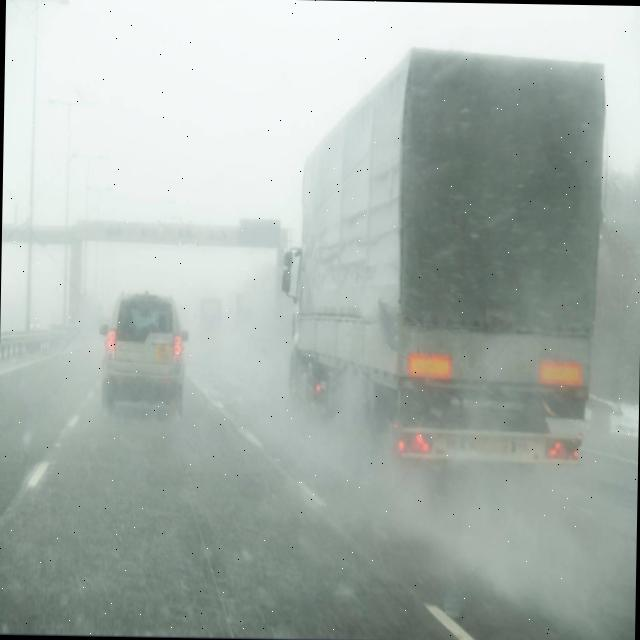bus: (278, 45, 610, 492), (198, 296, 224, 342)
car: (100, 294, 186, 412)
